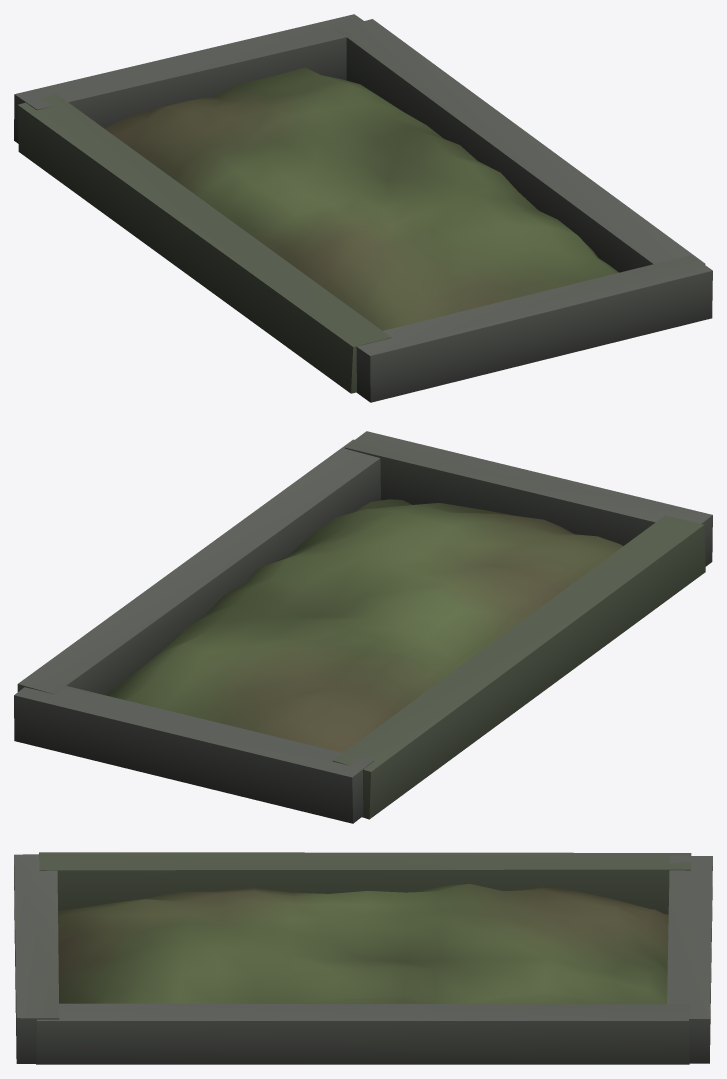
Rendered from ph_prop_grave_mound_grassy.glb.
3 views of the same model, one above another, from view 1: azimuth 30°, elevation 25°; view 2: azimuth 150°, elevation 25°; view 3: azimuth 270°, elevation 25° (orthographic). The views are drawn at different scales.
Visible parts, largest first — view 1: ph_prop_grave_mound_grassy; view 2: ph_prop_grave_mound_grassy; view 3: ph_prop_grave_mound_grassy.
Boxes of the visible parts, left/top/right/bottom form: ph_prop_grave_mound_grassy: left=14, top=14, right=712, bottom=402; ph_prop_grave_mound_grassy: left=14, top=431, right=712, bottom=823; ph_prop_grave_mound_grassy: left=14, top=852, right=712, bottom=1064.
Bounding box in the file's own units: 1.13 × 0.2057 × 1.97.
